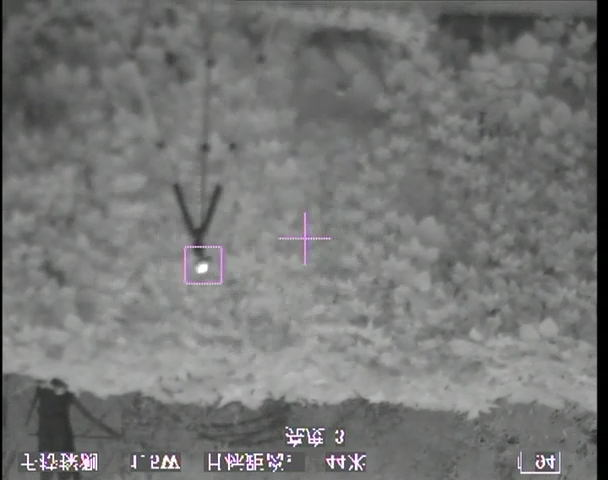my: (195, 262, 208, 274)
